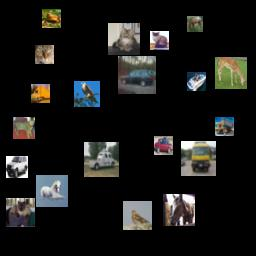automobile: (118, 56, 156, 94), (6, 156, 28, 178), (154, 136, 173, 155)
bird: (123, 201, 152, 230), (74, 81, 100, 107)
cat: (108, 23, 140, 55), (6, 198, 35, 227), (13, 117, 35, 139), (150, 31, 169, 50), (35, 45, 54, 64)
deer: (215, 57, 247, 89)
frog: (42, 9, 61, 28)
ship: (187, 72, 206, 91)
truck: (84, 142, 119, 177), (181, 141, 216, 176), (31, 84, 50, 103), (215, 117, 234, 136)
